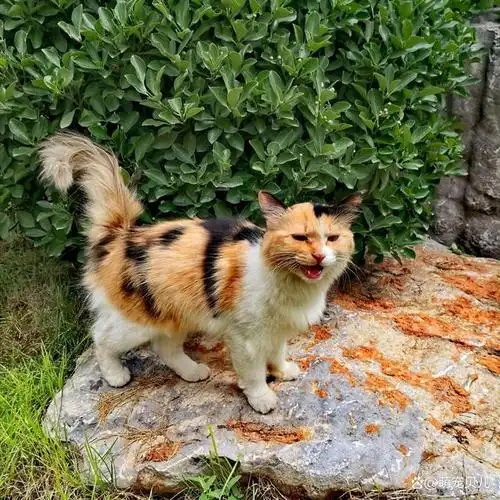三花猫: (95, 192, 360, 412)
